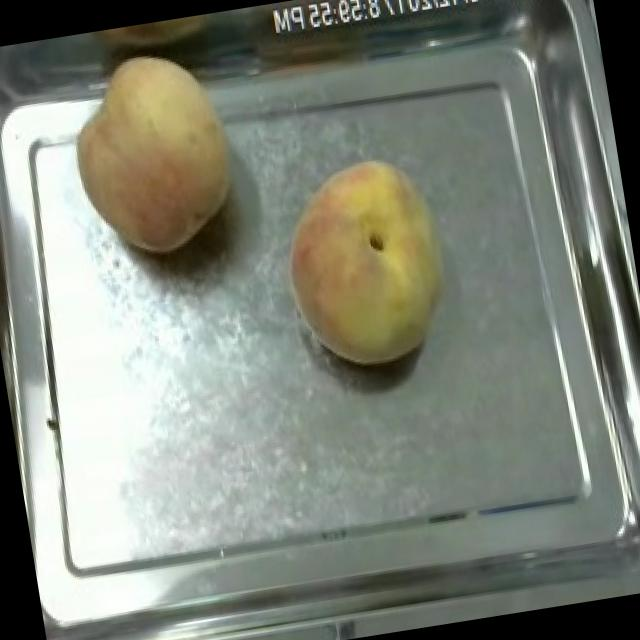Fruit: (48, 29, 258, 275), (264, 141, 472, 384)
